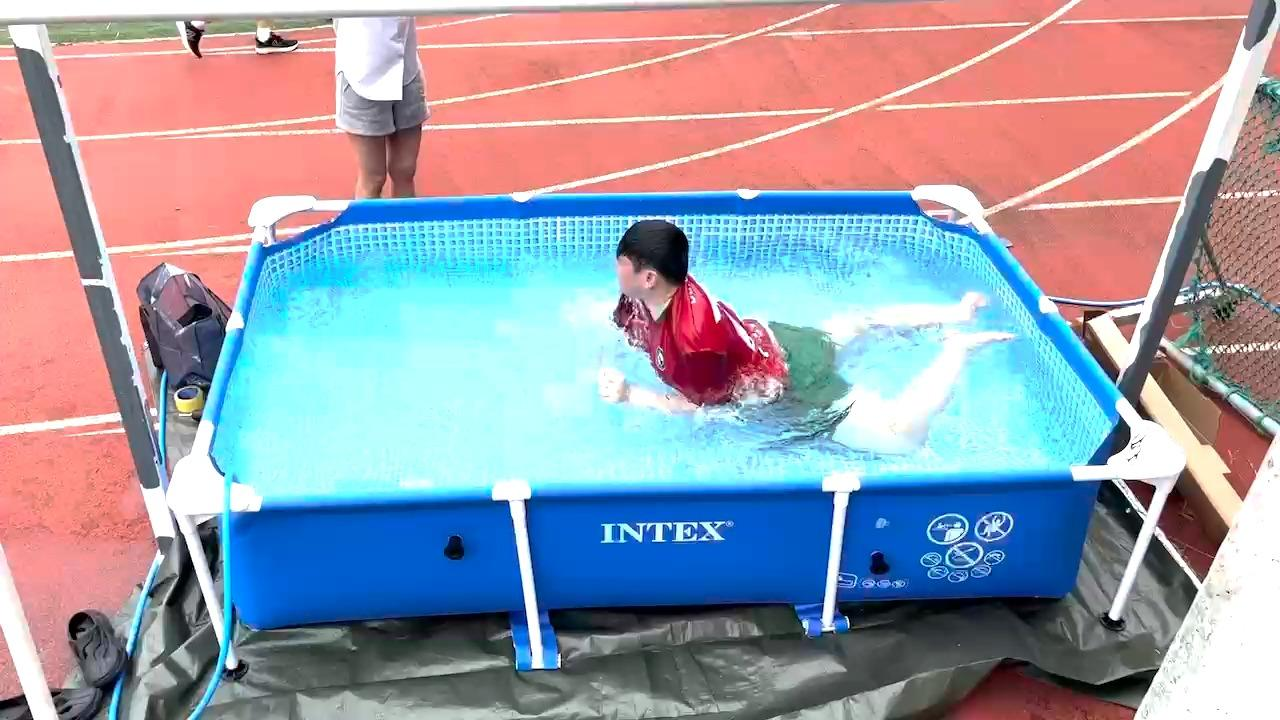Drowning: (535, 227, 1028, 459)
Person-out-of-water: (307, 0, 440, 229)
